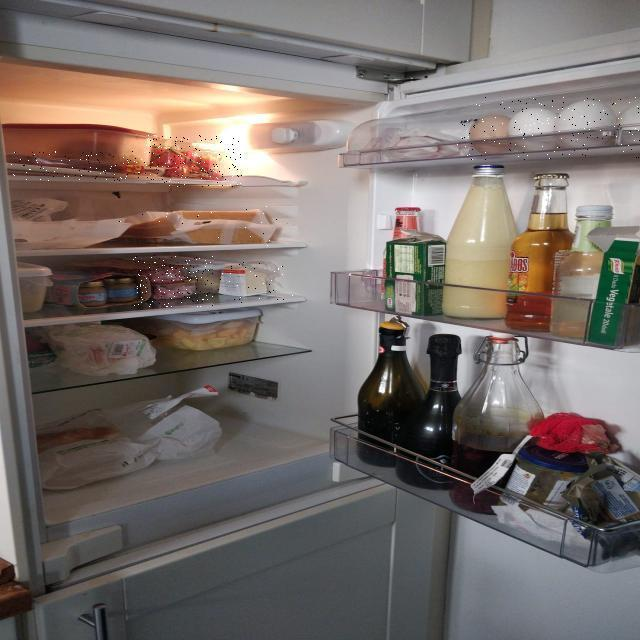Carne cerdo: (11, 151, 172, 181)
Huevos: (457, 97, 640, 160)
Queso: (114, 203, 298, 248), (214, 262, 294, 304)
